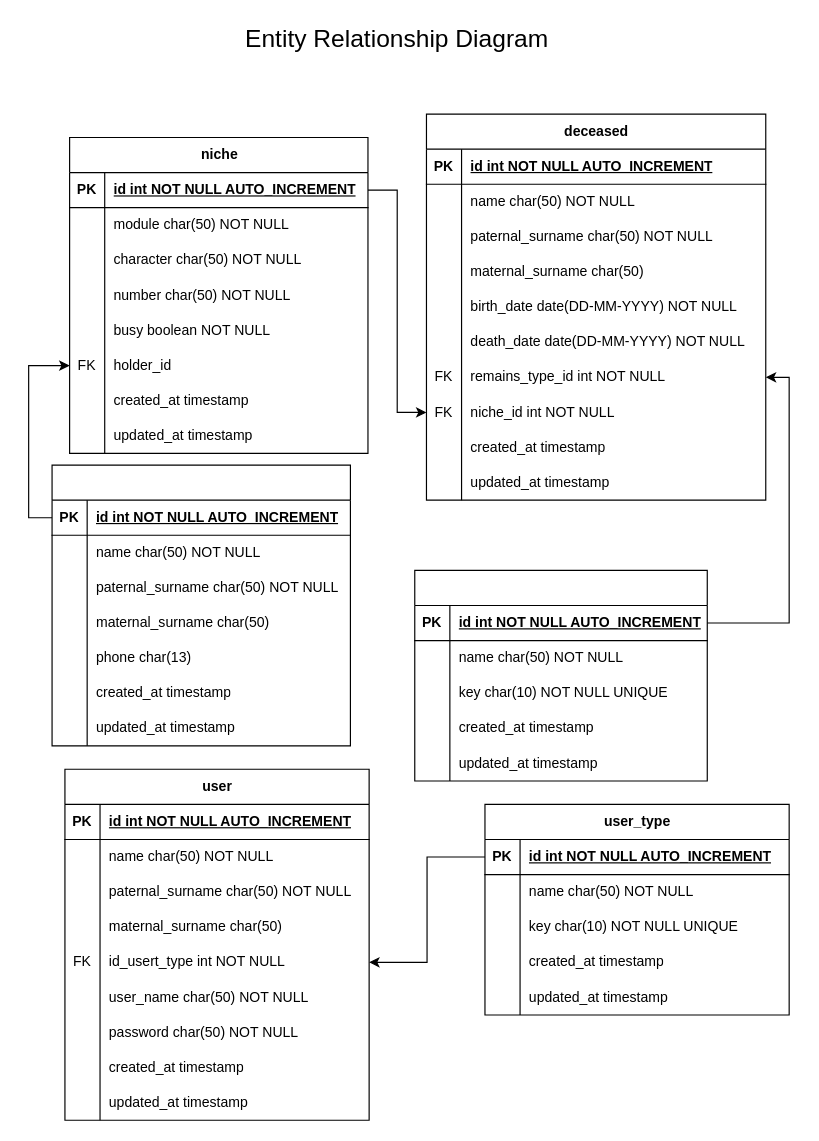
Image size: 819x1141. Some labels were removed from this diagram. The box of each missing label's shape, as (x1, y1, x2, y2) in pixels:
holder: (51, 464, 350, 746)
remain_type: (414, 569, 707, 781)
